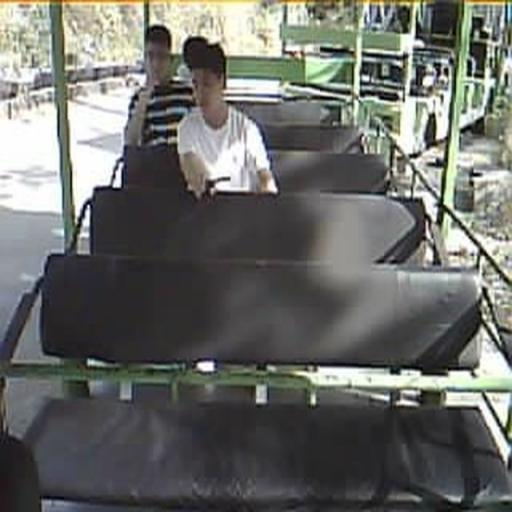persona: (176, 39, 279, 200), (122, 23, 198, 156), (178, 36, 205, 79)
